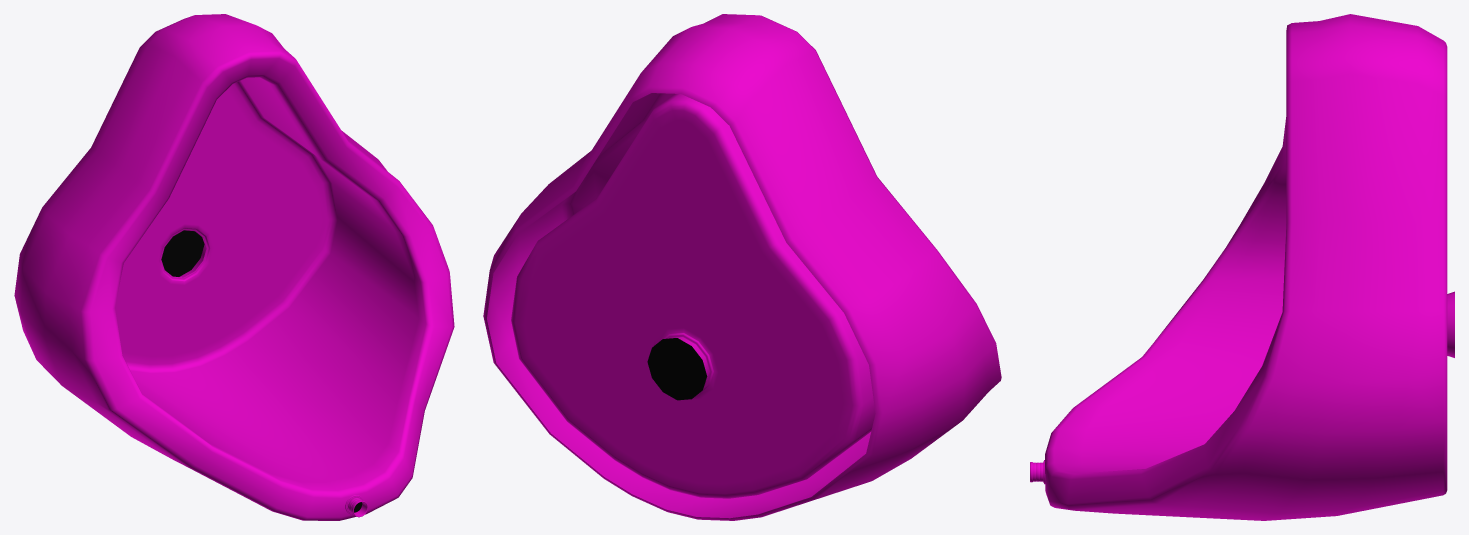
File: BallPlace.fbx
3 renders of one model, left to right at view 1: azimuth 30°, elevation 25°; view 2: azimuth 150°, elevation 25°; view 3: azimuth 270°, elevation 25°, orthographic. The views are drawn at different scales.
Visible parts, largest first — view 1: BallPlace; view 2: BallPlace; view 3: BallPlace.
Part boxes in pixels (x1,y1,x2,y2): BallPlace: (14, 14, 454, 520); BallPlace: (483, 14, 1001, 520); BallPlace: (1030, 14, 1454, 520).
Bounding box in the file's own units: 175 × 178 × 145.
